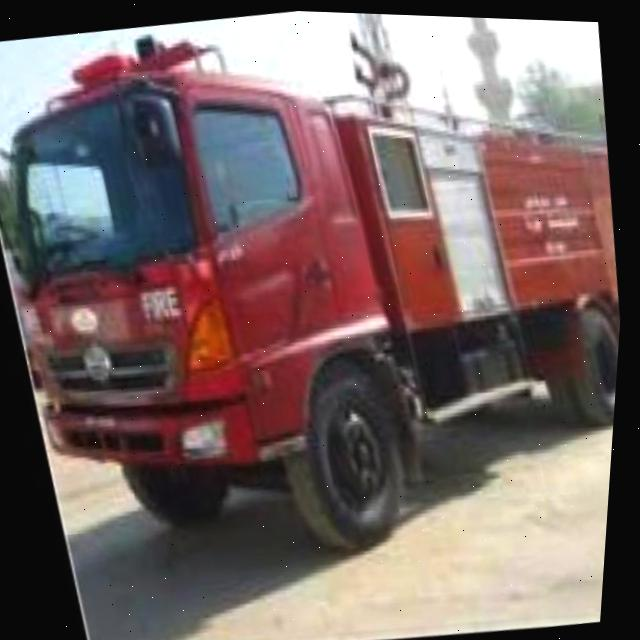emergency: (0, 0, 640, 601)
